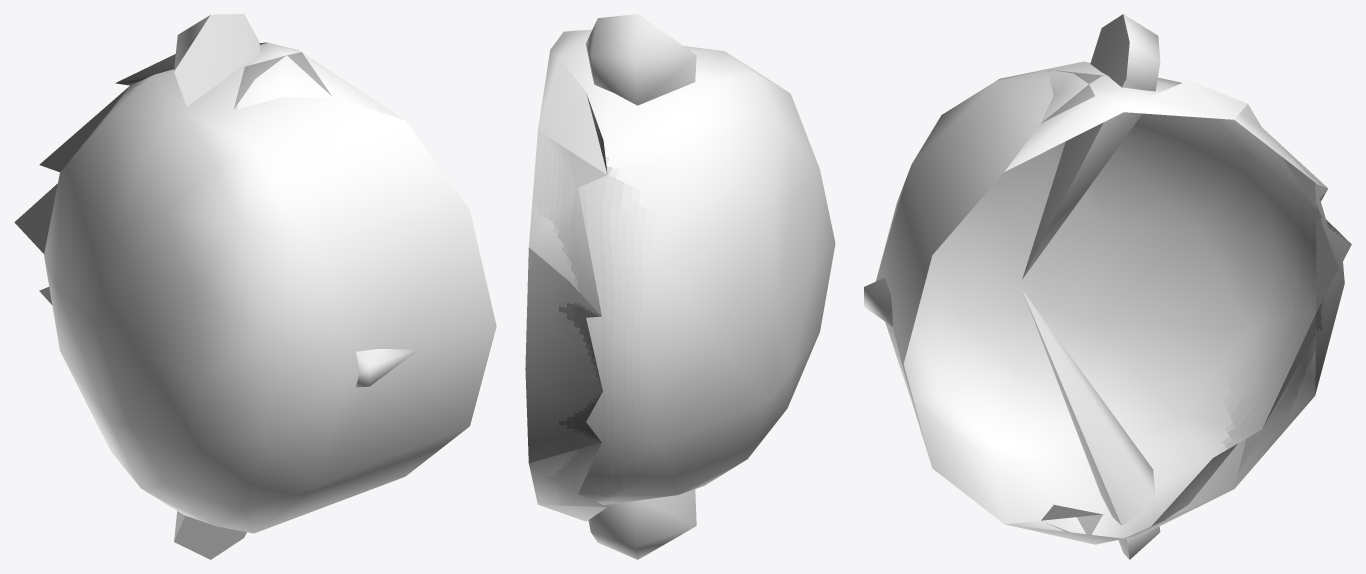
Rendered from girl13b.dae.
3 views of the same model, side by side, from view 1: azimuth 30°, elevation 25°; view 2: azimuth 150°, elevation 25°; view 3: azimuth 270°, elevation 25° (orthographic).
Parts seen in each view (by area): view 1: girl13b; view 2: girl13b; view 3: girl13b.
Part boxes in pixels (x1,y1,x2,y2): girl13b: (14, 14, 496, 559); girl13b: (525, 14, 835, 559); girl13b: (864, 14, 1351, 559).
Bounding box in the file's own units: 15.5 × 26.71 × 21.91.
3 materials, 1 textured.
